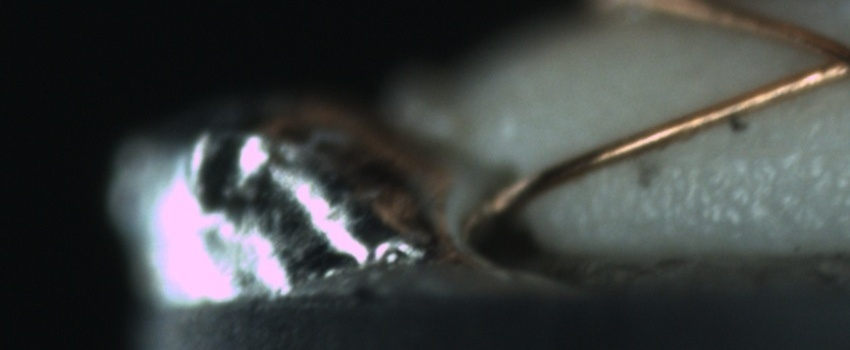CL: (798, 28, 850, 87)
DL: (676, 125, 850, 180)
